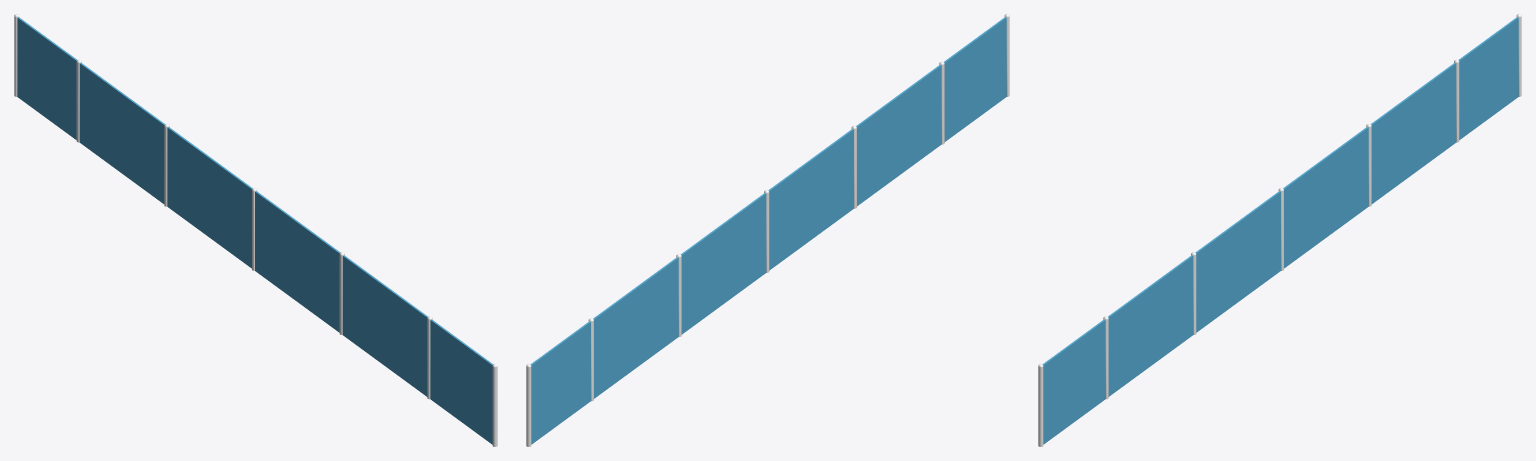
Rendered from railing3.fbx.
3 renders of one model, left to right at view 1: azimuth 30°, elevation 25°; view 2: azimuth 150°, elevation 25°; view 3: azimuth 330°, elevation 25°, orthographic.
Parts seen in each view (by area): view 1: Railing_3; view 2: Railing_3; view 3: Railing_3.
Boxes of the visible parts, x1,y1,x2,y2 form: Railing_3: [14, 14, 497, 446]; Railing_3: [526, 14, 1009, 446]; Railing_3: [1038, 14, 1521, 446].
Bounding box in the file's own units: 12 × 205 × 2194.
